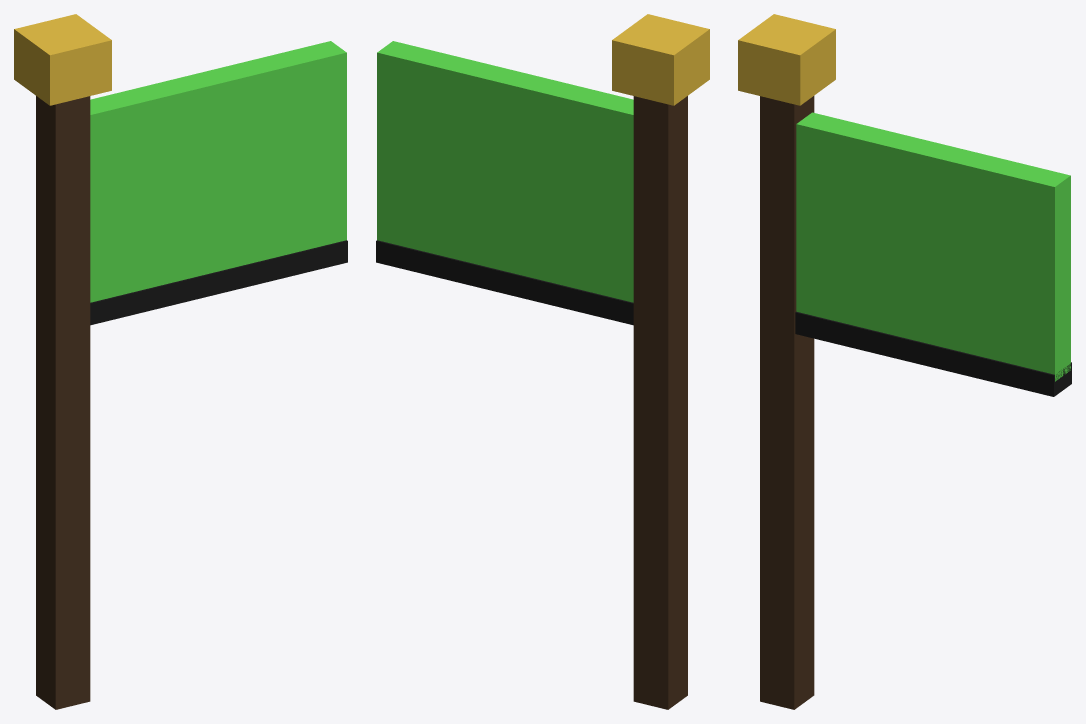
The model's file is flag_3.glb.
3 views of the same model, side by side, from view 1: azimuth 30°, elevation 25°; view 2: azimuth 150°, elevation 25°; view 3: azimuth 330°, elevation 25° (orthographic).
Bounding box in the file's own units: 0.89 × 1.84 × 0.18.
1 material, 1 textured.
